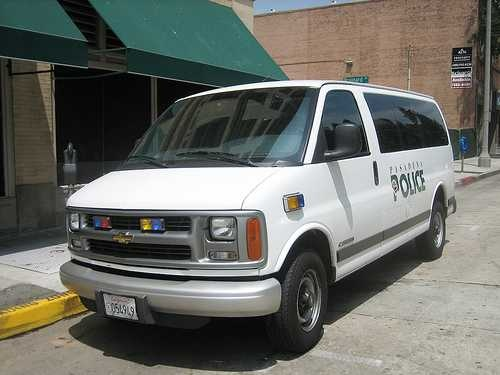Police Van: (53, 66, 459, 355)
